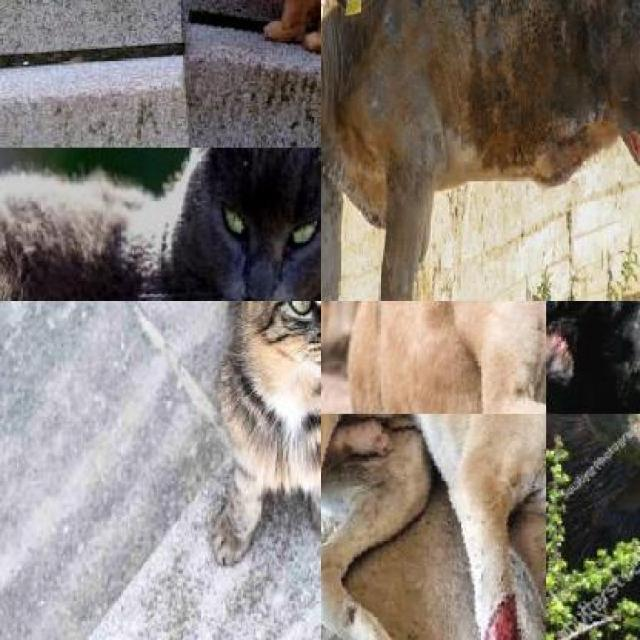cat: (0, 148, 320, 300), (212, 300, 320, 558), (158, 0, 320, 148)
cow: (320, 0, 640, 300)
dog: (320, 414, 546, 640), (320, 300, 546, 414)
injured: (404, 544, 546, 640)
